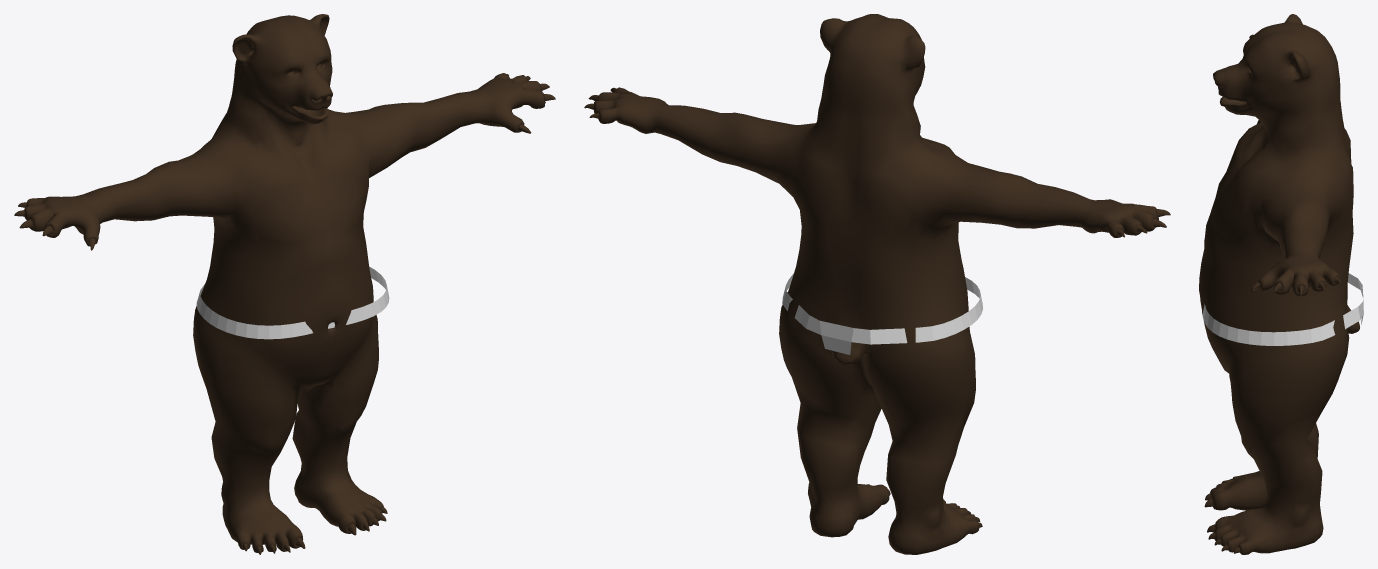
File: bear.309f6a47.glb
3 views of the same model, side by side, from view 1: azimuth 30°, elevation 25°; view 2: azimuth 150°, elevation 25°; view 3: azimuth 270°, elevation 25° (orthographic). The views are drawn at different scales.
Visible parts, largest first — view 1: Bear, HipForma; view 2: Bear, HipForma; view 3: Bear, HipForma.
Part boxes in pixels (<box>): Bear: <box>14,14,555,554</box>; HipForma: <box>196,266,389,339</box>; Bear: <box>584,14,1170,554</box>; HipForma: <box>782,274,982,354</box>; Bear: <box>1199,14,1359,554</box>; HipForma: <box>1202,273,1363,345</box>.
Bounding box in the file's own units: 2.06 × 1.8 × 0.5456.
